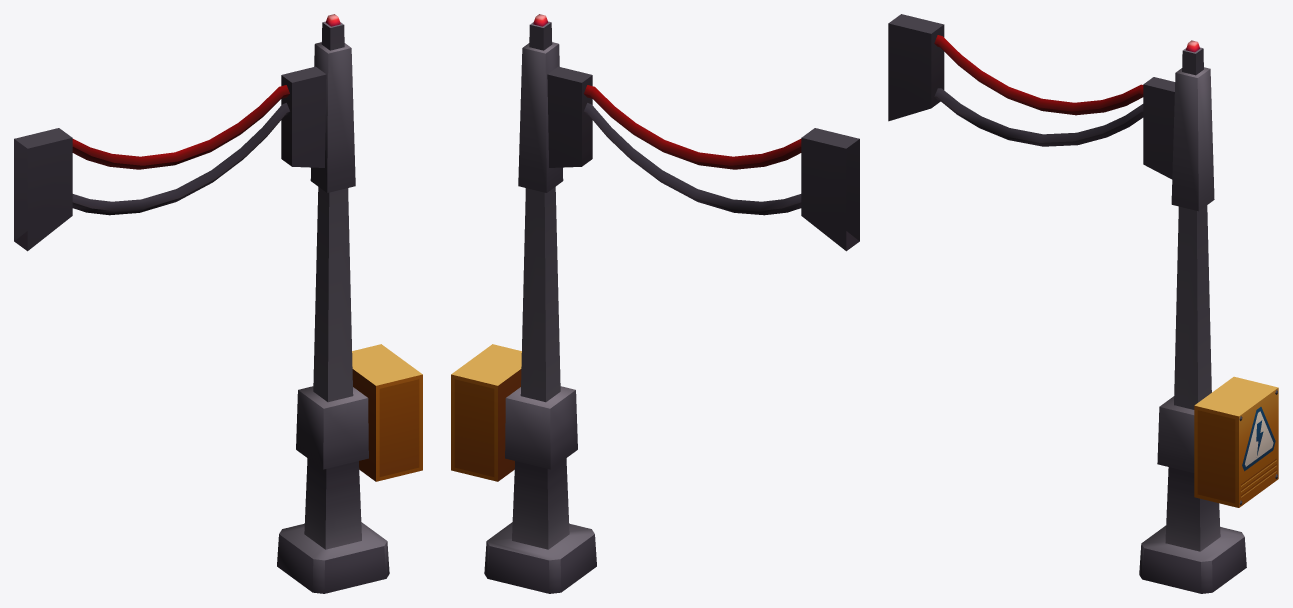
Rendered from Cable_Pole_1C.fbx.
3 views of the same model, side by side, from view 1: azimuth 30°, elevation 25°; view 2: azimuth 150°, elevation 25°; view 3: azimuth 330°, elevation 25° (orthographic). The views are drawn at different scales.
Visible parts, largest first — view 1: Cable_Pole_1C; view 2: Cable_Pole_1C; view 3: Cable_Pole_1C.
Boxes of the visible parts, left/top/right/bottom form: Cable_Pole_1C: left=14, top=14, right=422, bottom=593; Cable_Pole_1C: left=451, top=14, right=859, bottom=593; Cable_Pole_1C: left=888, top=14, right=1278, bottom=593.
Bounding box in the file's own units: 490 × 678 × 98.52.
